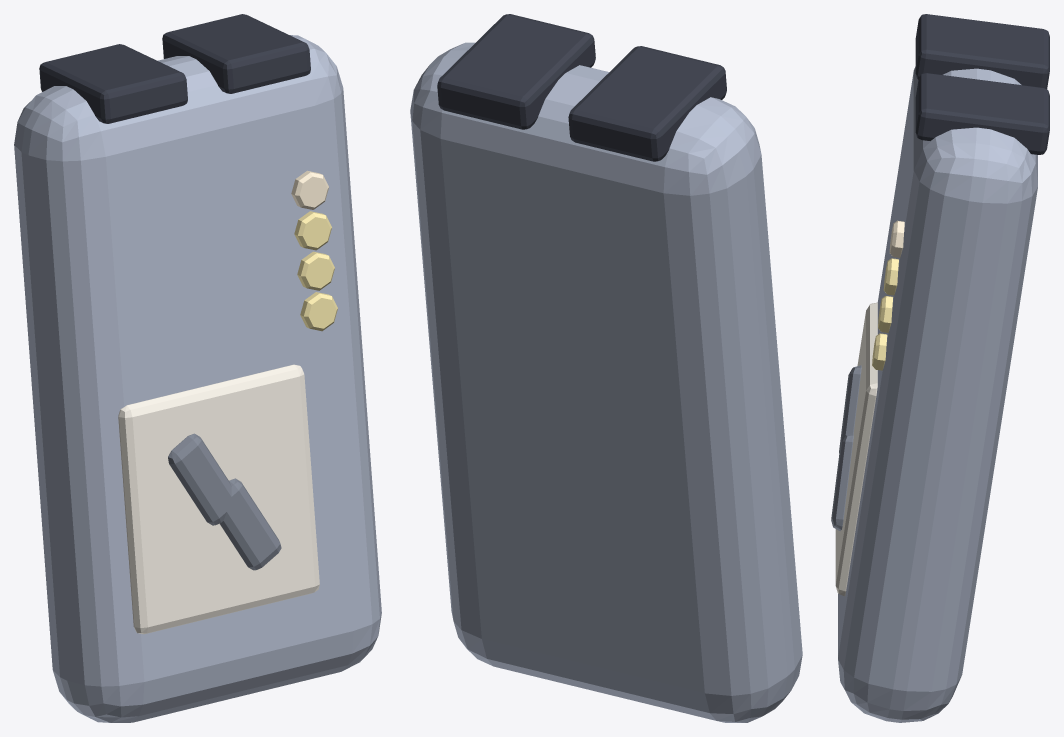
The model's file is powerbank.glb.
3 renders of one model, left to right at view 1: azimuth 30°, elevation 25°; view 2: azimuth 150°, elevation 25°; view 3: azimuth 270°, elevation 25°, orthographic. The views are drawn at different scales.
Visible parts, largest first — view 1: powerbank; view 2: powerbank; view 3: powerbank.
Part boxes in pixels (bbox=[...]): powerbank: bbox=[14, 14, 381, 722]; powerbank: bbox=[410, 14, 802, 722]; powerbank: bbox=[831, 14, 1049, 722].
Size of the model in its own units: 0.5 by 0.9589 by 0.3136.
